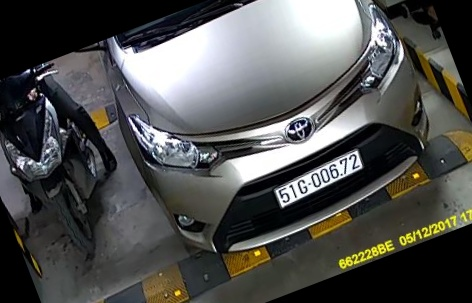plate: (273, 149, 366, 209)
